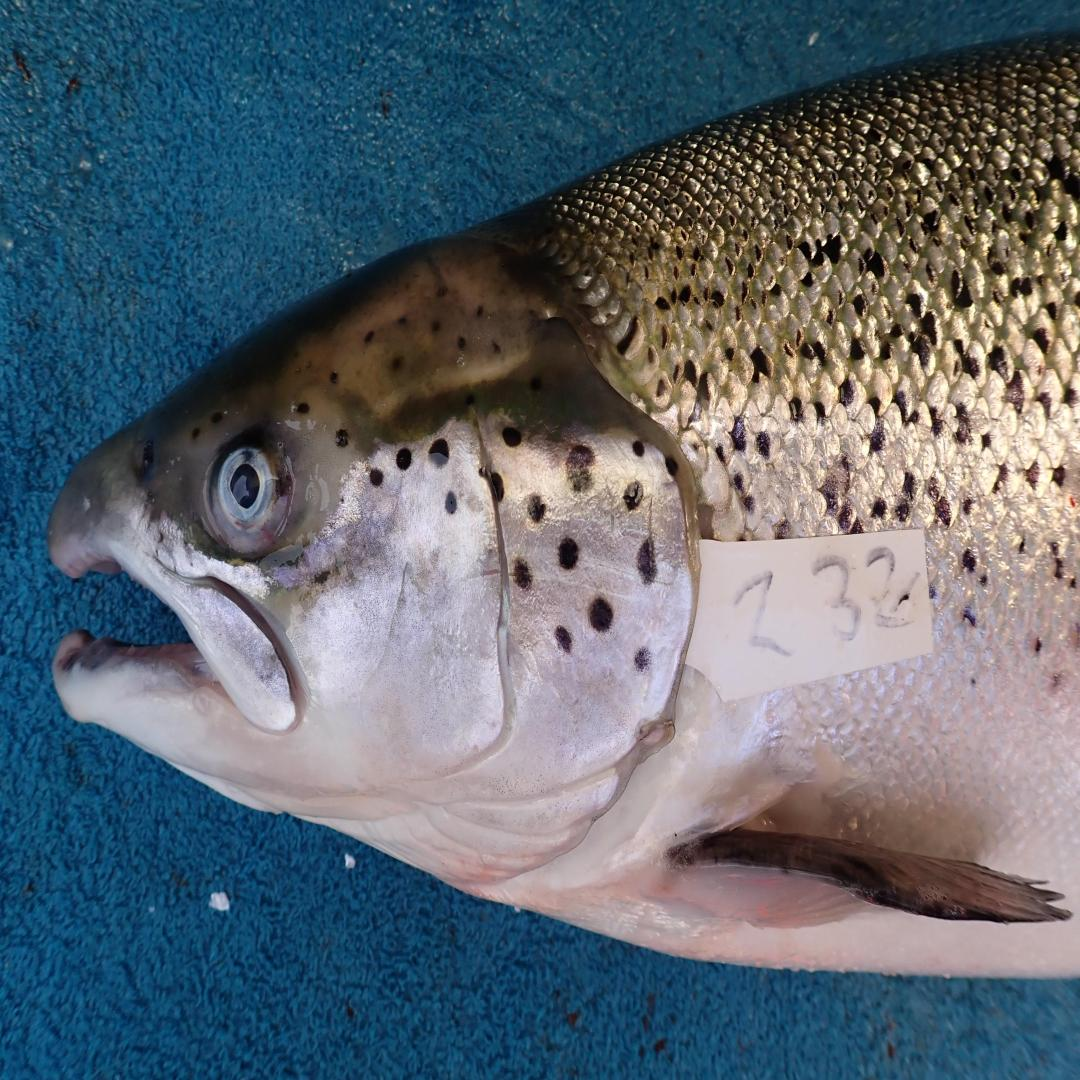spot: (565, 444, 595, 492), (589, 596, 614, 633), (637, 537, 656, 582), (559, 537, 578, 571), (513, 560, 532, 591), (428, 439, 449, 467), (624, 481, 643, 509), (527, 495, 546, 523), (555, 624, 572, 652), (491, 472, 504, 501), (635, 647, 650, 672), (502, 428, 521, 447), (397, 447, 411, 470), (369, 467, 384, 487), (445, 492, 458, 515), (664, 456, 677, 478), (314, 571, 329, 585), (633, 442, 643, 456)
